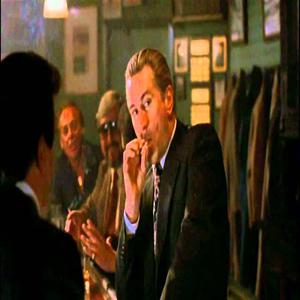cigarette: (139, 140, 149, 155)
